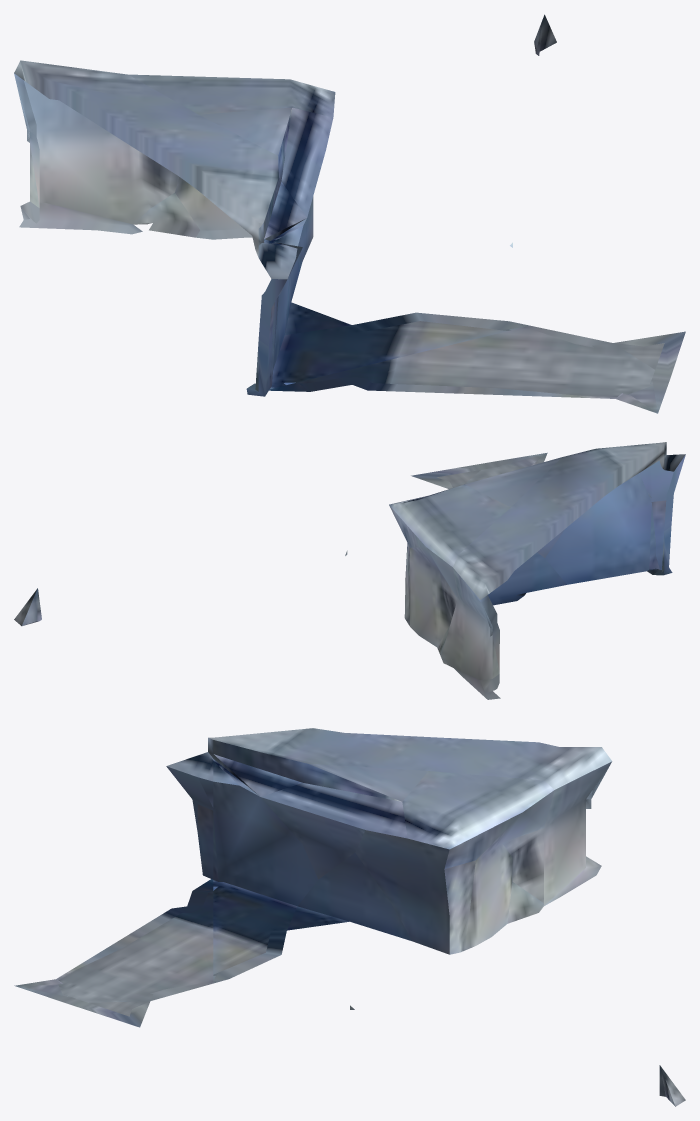
3 views of the same model, one above another, from view 1: azimuth 30°, elevation 25°; view 2: azimuth 150°, elevation 25°; view 3: azimuth 270°, elevation 25° (orthographic). The views are drawn at different scales.
Visible parts, largest first — view 1: 30436272704370625725_0; view 2: 30436272704370625725_0; view 3: 30436272704370625725_0.
Boxes of the visible parts, x1,y1,x2,y2 form: 30436272704370625725_0: (14, 14, 685, 413); 30436272704370625725_0: (14, 442, 685, 699); 30436272704370625725_0: (14, 728, 685, 1106).
Size of the model in its own units: 16.41 by 4.78 by 19.75.
Materials: 1 (1 with a texture image).
